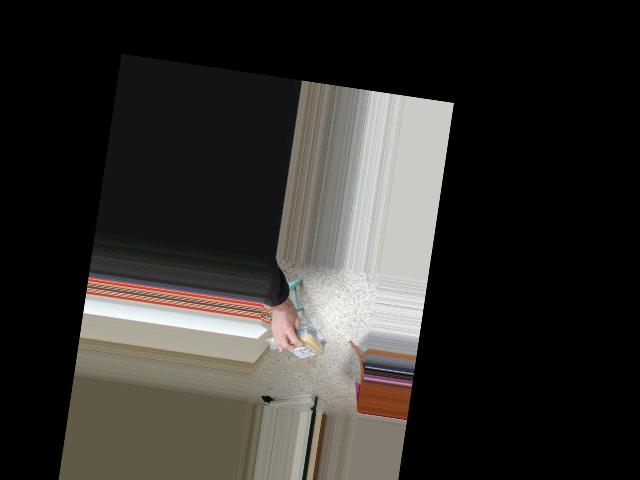cheese: (280, 327, 329, 363)
